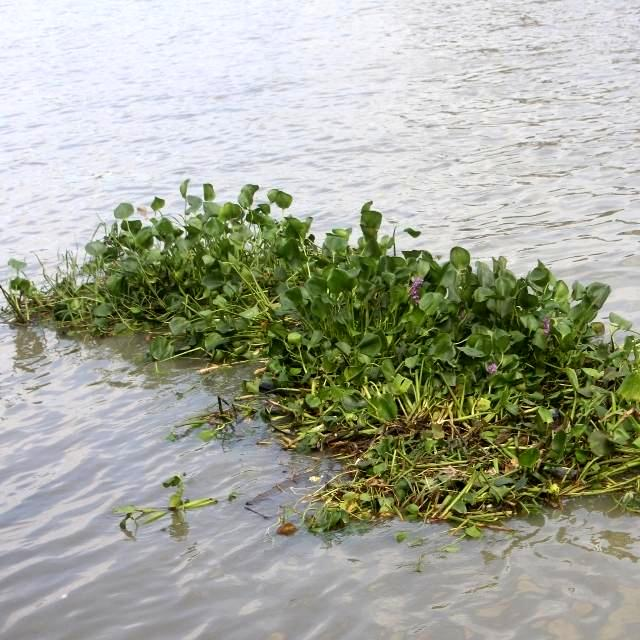water-hyacinth: (21, 186, 640, 522), (124, 470, 223, 528)
